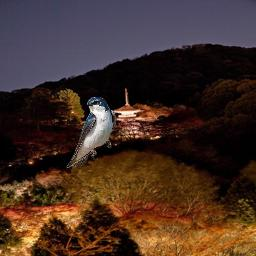Swallow: (66, 96, 117, 169)
